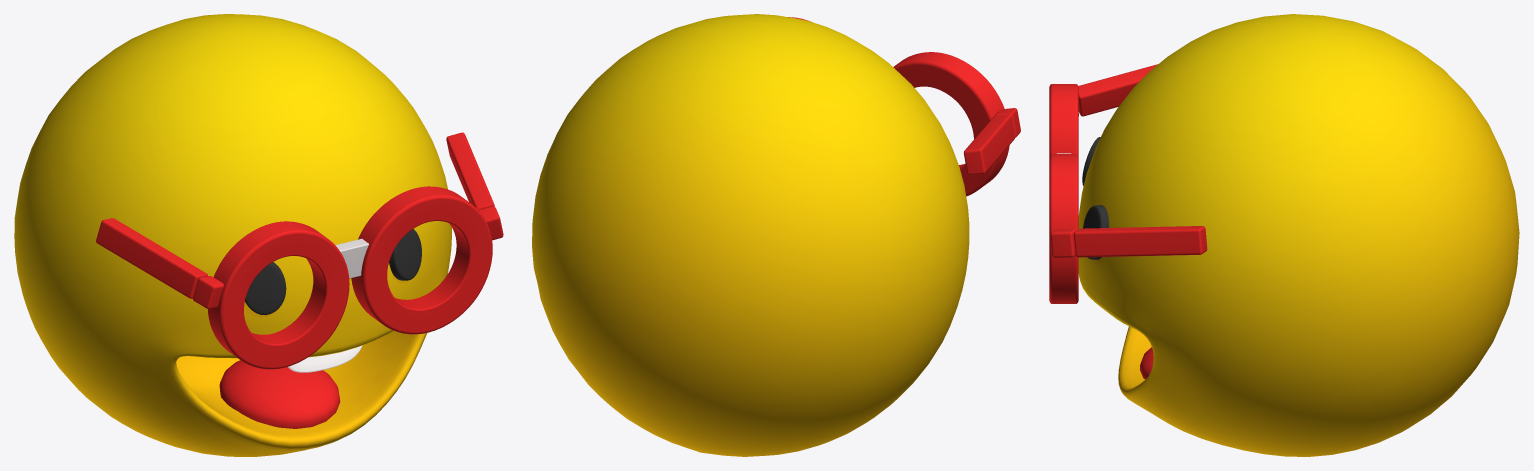
File: Emoji With Glasses.glb
3 renders of one model, left to right at view 1: azimuth 30°, elevation 25°; view 2: azimuth 150°, elevation 25°; view 3: azimuth 270°, elevation 25°, orthographic.
Parts seen in each view (by area): view 1: w_glasses3.1; view 2: w_glasses3.1; view 3: w_glasses3.1.
Part boxes in pixels (x1,y1,x2,y2): w_glasses3.1: (14, 14, 503, 456); w_glasses3.1: (532, 14, 1020, 456); w_glasses3.1: (1049, 14, 1519, 456).
Size of the model in its own units: 0.0163 by 0.0164 by 0.0174.
1 material, 1 textured.
